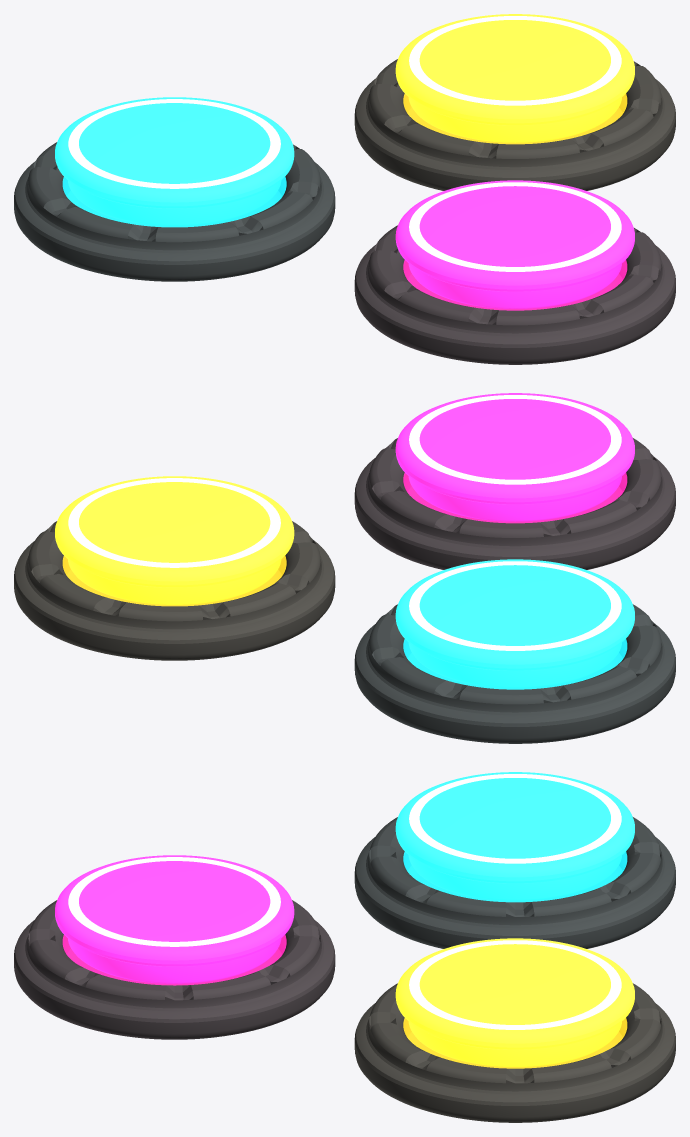
Rendered from MemoryGame_UI_Easy.glb.
The picture shows the model from 3 angles, top to bottom: view 1: azimuth 30°, elevation 25°; view 2: azimuth 150°, elevation 25°; view 3: azimuth 270°, elevation 25°; orthographic projection.
Parts seen in each view (by area): view 1: Button_Cyan_Surface, Button_Yellow_Surface, Button_Magenta_Surface, Button_Cyan_Frame, Button_Magenta_Frame, Button_Yellow_Frame; view 2: Button_Yellow_Surface, Button_Magenta_Surface, Button_Cyan_Surface, Button_Yellow_Frame, Button_Cyan_Frame, Button_Magenta_Frame; view 3: Button_Magenta_Surface, Button_Cyan_Surface, Button_Yellow_Surface, Button_Magenta_Frame, Button_Yellow_Frame, Button_Cyan_Frame.
Boxes of the visible parts, left/top/right/bottom form: Button_Cyan_Surface: left=55, top=97, right=294, bottom=225; Button_Yellow_Surface: left=395, top=14, right=634, bottom=142; Button_Magenta_Surface: left=395, top=180, right=634, bottom=308; Button_Cyan_Frame: left=14, top=142, right=335, bottom=281; Button_Magenta_Frame: left=354, top=225, right=675, bottom=364; Button_Yellow_Frame: left=354, top=59, right=675, bottom=190; Button_Yellow_Surface: left=55, top=476, right=294, bottom=604; Button_Magenta_Surface: left=395, top=393, right=634, bottom=521; Button_Cyan_Surface: left=395, top=559, right=634, bottom=687; Button_Yellow_Frame: left=14, top=521, right=335, bottom=660; Button_Cyan_Frame: left=354, top=604, right=675, bottom=743; Button_Magenta_Frame: left=354, top=438, right=675, bottom=569; Button_Magenta_Surface: left=55, top=855, right=294, bottom=983; Button_Cyan_Surface: left=395, top=772, right=634, bottom=900; Button_Yellow_Surface: left=395, top=938, right=634, bottom=1066; Button_Magenta_Frame: left=14, top=900, right=335, bottom=1039; Button_Yellow_Frame: left=354, top=983, right=675, bottom=1122; Button_Cyan_Frame: left=354, top=817, right=675, bottom=948.
Bounding box in the file's own units: 4.45 × 0.525 × 4.12.
